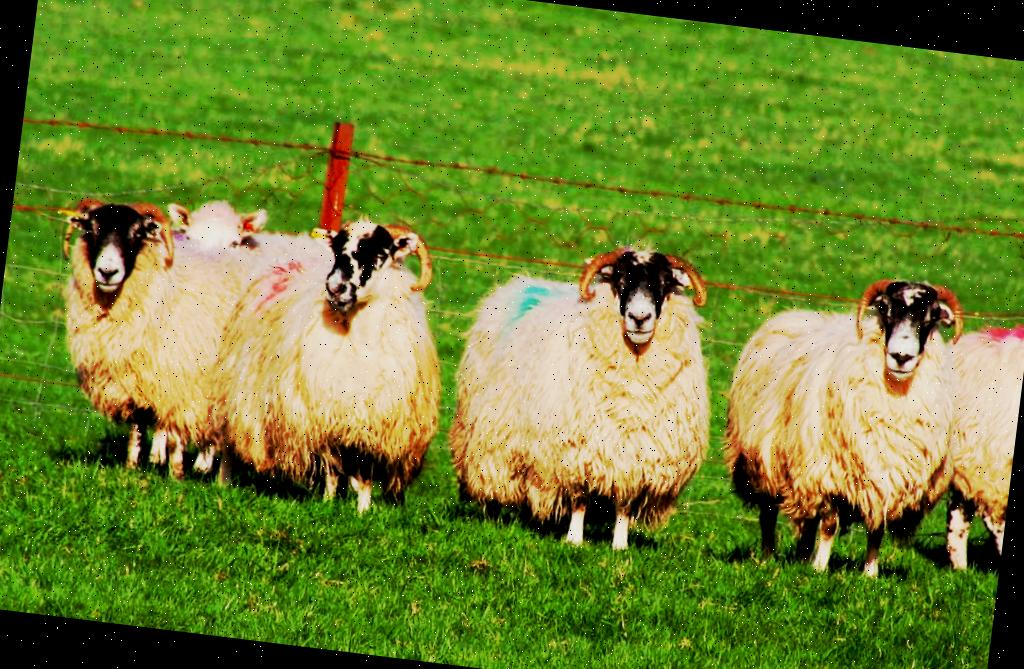Sheep: (426, 222, 732, 556), (717, 265, 1001, 606), (132, 192, 436, 500), (18, 196, 302, 500), (192, 203, 462, 518), (919, 313, 1024, 568)
